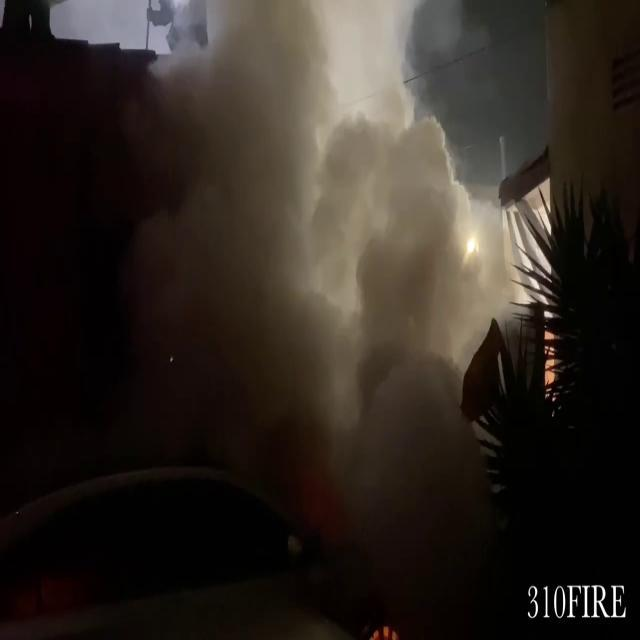Smoke: (2, 0, 470, 589)
